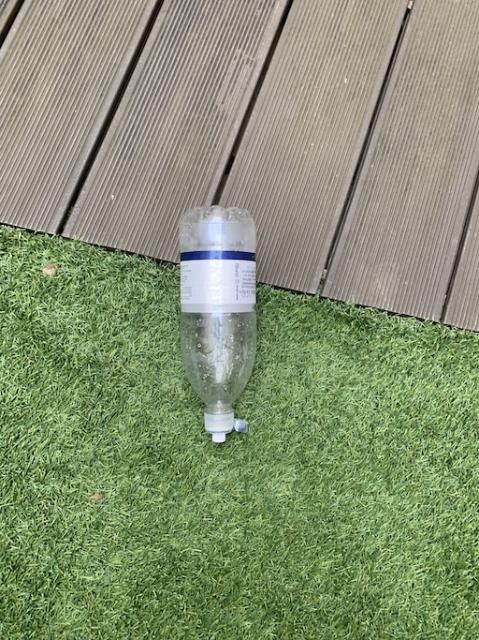plastic: (179, 205, 255, 440)
